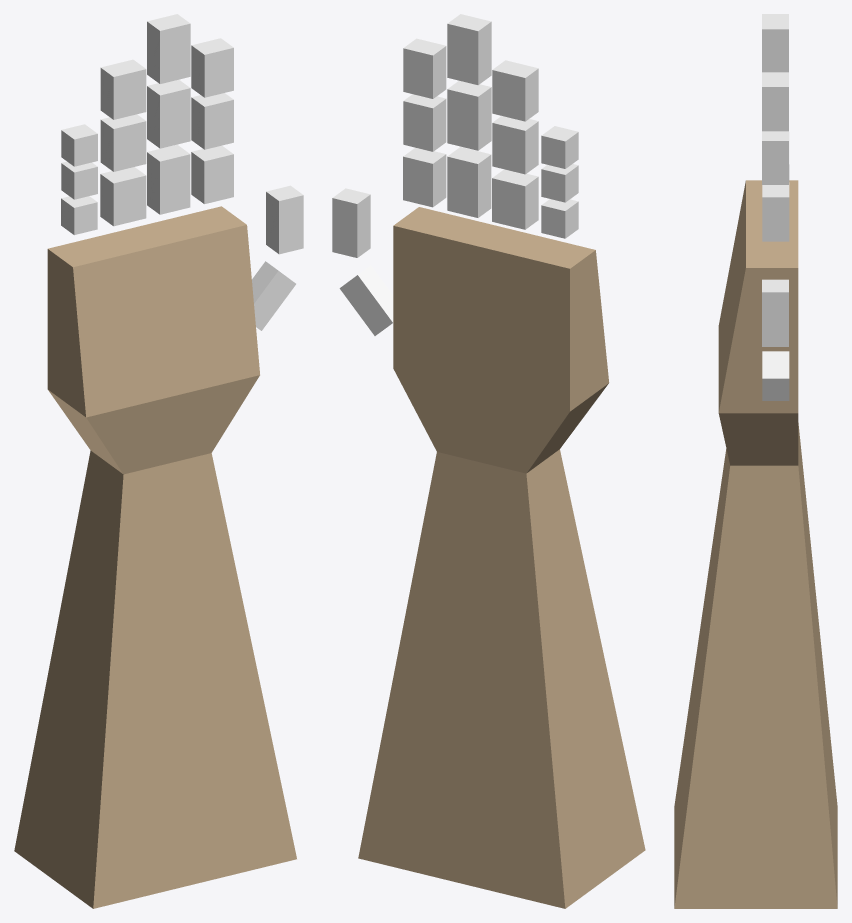
File: RArmX.glb
3 views of the same model, side by side, from view 1: azimuth 30°, elevation 25°; view 2: azimuth 150°, elevation 25°; view 3: azimuth 270°, elevation 25° (orthographic). The views are drawn at different scales.
Visible parts, largest first — view 1: arm, m1, m3, m2, r3, r1, r2, t2, i3, i1, i2, t1 (+3 smaller); view 2: arm, m3, m1, m2, r3, r1, t2, r2, i3, i1, i2, t1 (+3 smaller); view 3: arm, t2, i3, i1, m3, i2, t1.
Boxes of the visible parts, x1,y1,x2,y2 form: arm: (14, 206, 296, 908); m1: (147, 144, 190, 214); m3: (147, 14, 190, 83); m2: (147, 79, 190, 148); r3: (100, 59, 146, 119); r1: (100, 167, 146, 226); r2: (100, 114, 146, 171); t2: (266, 185, 303, 254); i3: (191, 38, 233, 97); i1: (191, 145, 233, 204); i2: (191, 93, 233, 149); t1: (252, 261, 295, 330); arm: (358, 207, 645, 908); m3: (447, 14, 491, 84); m1: (447, 147, 491, 217); m2: (447, 80, 491, 150); r3: (492, 60, 538, 121); r1: (492, 169, 538, 229); t2: (332, 188, 370, 257); r2: (492, 116, 538, 174); i3: (403, 38, 446, 98); i1: (403, 147, 446, 207); i2: (403, 94, 446, 151); t1: (339, 265, 393, 335); arm: (674, 180, 837, 908); t2: (762, 279, 788, 346); i3: (762, 72, 788, 131); i1: (762, 182, 789, 241); m3: (762, 14, 788, 72); i2: (762, 131, 788, 184); t1: (762, 351, 789, 400).
Bounding box in the file's own units: 1.31 × 4.07 × 0.7103.
